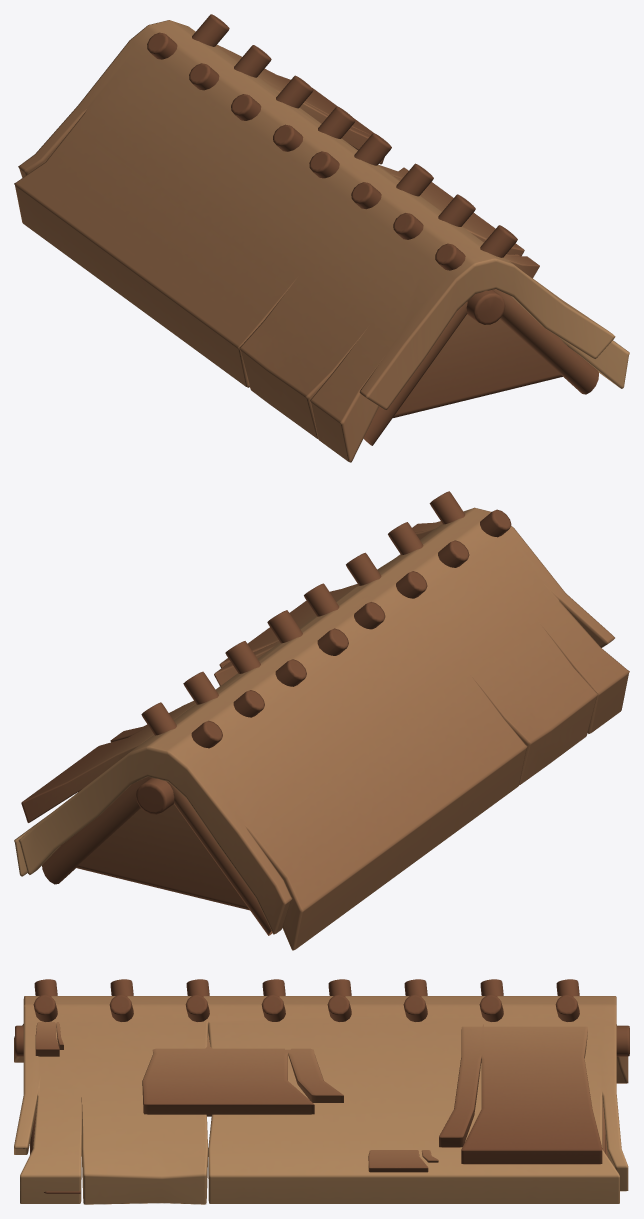
The model's file is SM_Clay_Roof_07.fbx.
The picture shows the model from 3 angles, top to bottom: view 1: azimuth 30°, elevation 25°; view 2: azimuth 150°, elevation 25°; view 3: azimuth 270°, elevation 25°; orthographic projection. The views are drawn at different scales.
Visible parts, largest first — view 1: SM_Clay_Roof_07; view 2: SM_Clay_Roof_07; view 3: SM_Clay_Roof_07.
Boxes of the visible parts, <box> form: SM_Clay_Roof_07: <box>14,14,629,462</box>; SM_Clay_Roof_07: <box>14,491,629,950</box>; SM_Clay_Roof_07: <box>14,979,629,1204</box>.
Bounding box in the file's own units: 1.03 × 0.6438 × 2.09.
Materials: 1 (1 with a texture image).
